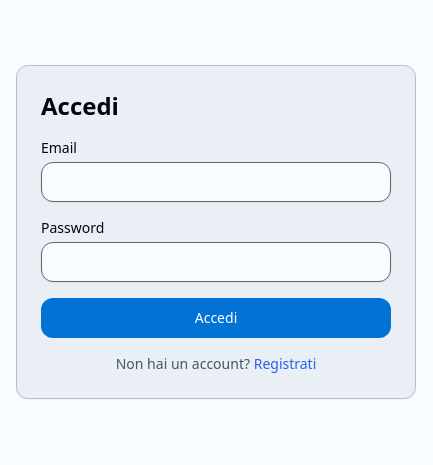
LoginPage — US-081 CAPTCHA flow (TSK-238) › mounts the widget and disables submit after a captchaRequired 401
The image size is (433, 465).
Type "user@example.com" into the field with test id "login-email".
click(216, 182); type("user@example.com")  # box [41, 162, 391, 202]
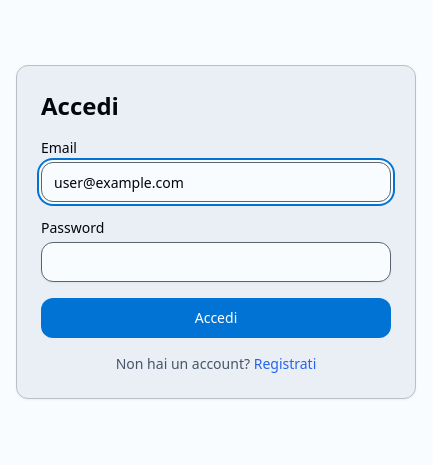
Type "CorrectHorse42!" into the password field with test id "login-password".
click(216, 262); type("CorrectHorse42!")  # box [41, 242, 391, 282]
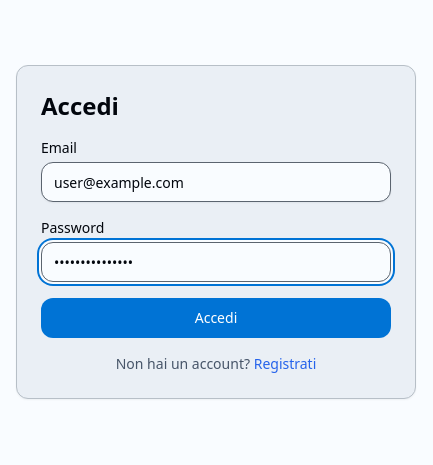
Click the button with test id "login-submit".
click(216, 318)  # box [41, 298, 391, 338]
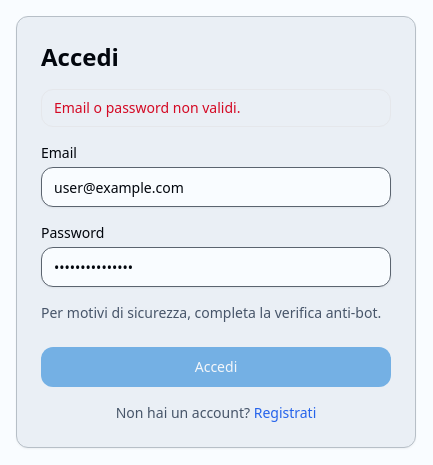
Check: the element with test id "login-captcha" is shown, box [41, 303, 391, 331]
Check: the button with test id "login-submit" is disabled, box [41, 347, 391, 387]
